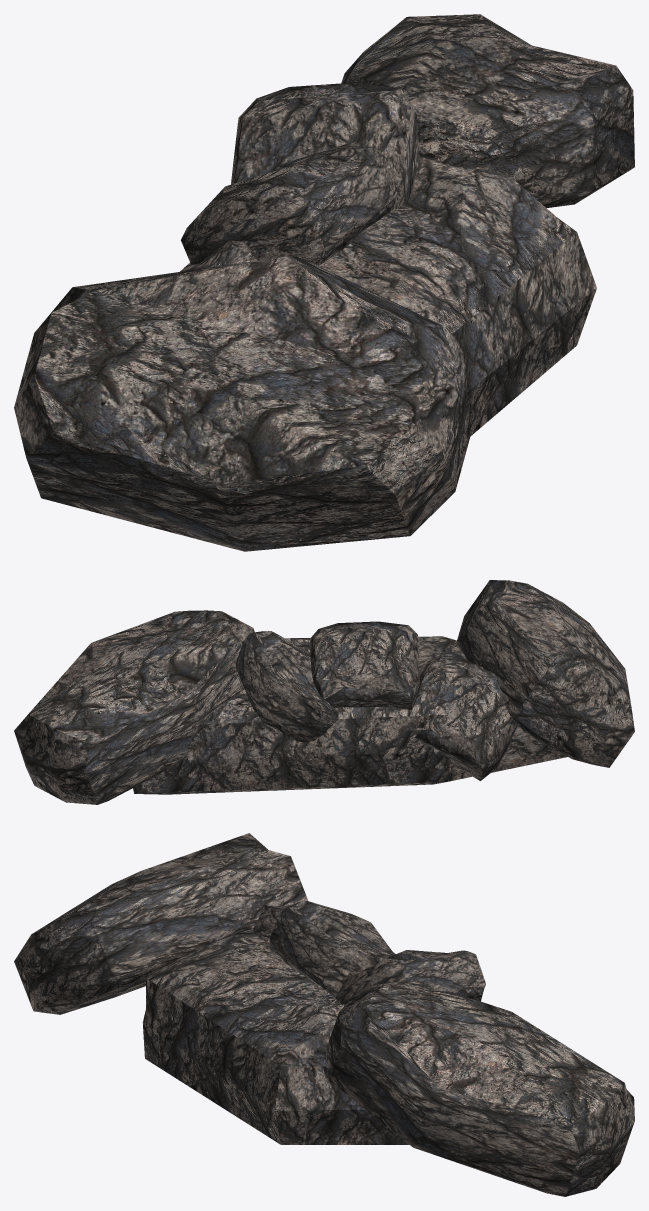
File: RockRubble1.fbx
3 views of the same model, one above another, from view 1: azimuth 30°, elevation 25°; view 2: azimuth 150°, elevation 25°; view 3: azimuth 270°, elevation 25° (orthographic). The views are drawn at different scales.
Visible parts, largest first — view 1: pCube1, pasted__pCube1 (×2), pasted__pasted__pCube2, pasted__pCube2, pCube2; view 2: pasted__pCube1 (×2), pCube1, pasted__pasted__pCube2, pCube2, pasted__pCube2; view 3: pasted__pCube1 (×2), pCube1, pasted__pasted__pCube2, pasted__pCube2, pCube2.
Part boxes in pixels (x1=…): pCube1: x1=14, y1=256, x2=475, y2=551; pasted__pCube1 (×2): x1=180, y1=14, x2=634, y2=436; pasted__pasted__pCube2: x1=181, y1=141, x2=397, y2=265; pasted__pCube2: x1=231, y1=82, x2=419, y2=211; pCube2: x1=191, y1=240, x2=259, y2=270; pasted__pCube1 (×2): x1=14, y1=610, x2=567, y2=804; pCube1: x1=456, y1=580, x2=634, y2=767; pasted__pasted__pCube2: x1=310, y1=621, x2=419, y2=709; pCube2: x1=406, y1=654, x2=517, y2=780; pasted__pCube2: x1=235, y1=631, x2=338, y2=742; pasted__pCube1 (×2): x1=142, y1=928, x2=634, y2=1196; pCube1: x1=14, y1=833, x2=308, y2=1014; pasted__pasted__pCube2: x1=268, y1=900, x2=395, y2=996; pasted__pCube2: x1=335, y1=950, x2=485, y2=1004; pCube2: x1=253, y1=904, x2=294, y2=943.
Size of the model in its own units: 4.62 by 1.32 by 4.57.
Materials: 5 (5 with a texture image).
